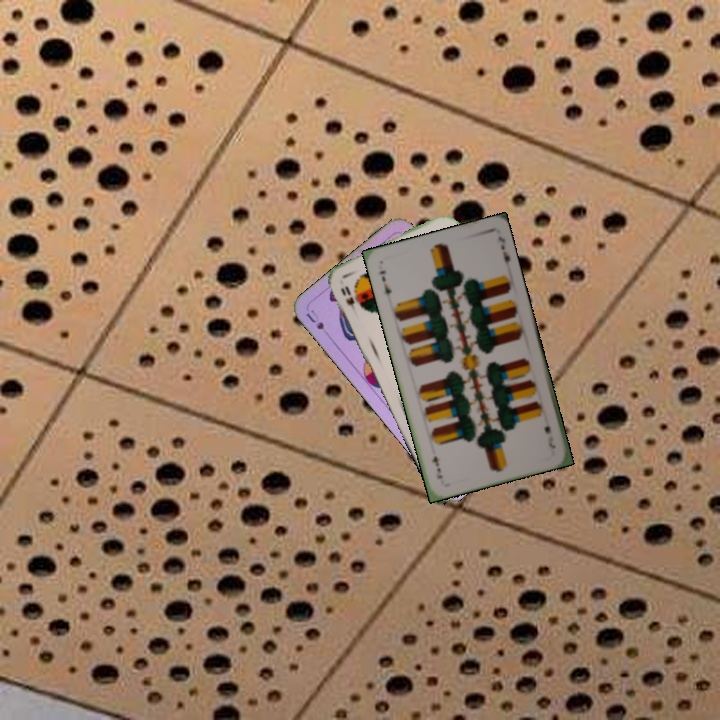E7: (375, 266, 394, 297), (540, 421, 558, 451)
SO: (337, 281, 360, 318)
SU: (302, 305, 327, 332)
